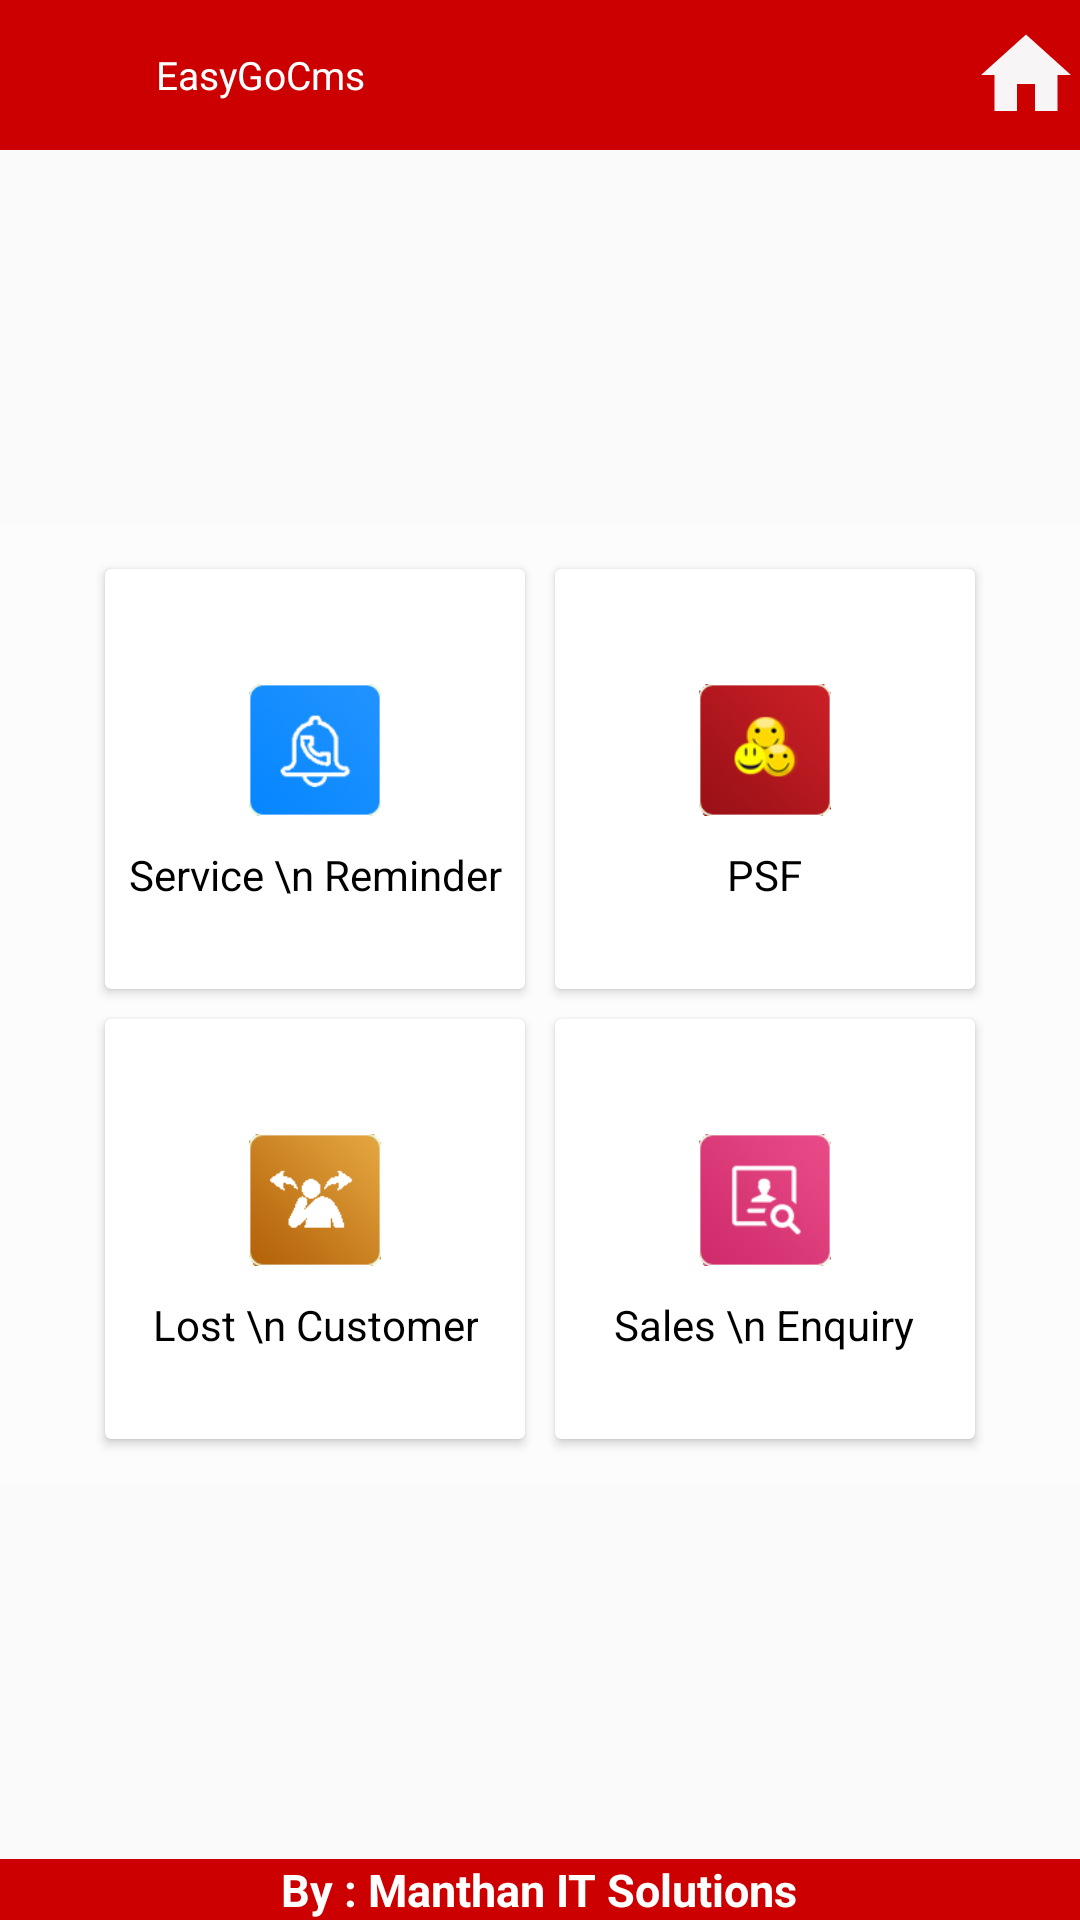

Where icons sit on this 1080x1920 app screen, as (x1, y1, x2, y2):
home: (981, 34, 1071, 111)
lostcust: (249, 1134, 381, 1266)
salesenq: (699, 1134, 831, 1266)
serviecreminder: (249, 684, 381, 816)
